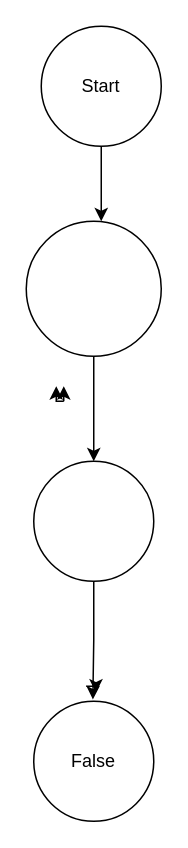
This 188x848 diagram has some shape labels left out. The shapes that lost their labels are listed below. From the top down, each one's centre as x and y in pixels, then its label:
At (93,288): "OTP".
At (93,520): "True".
